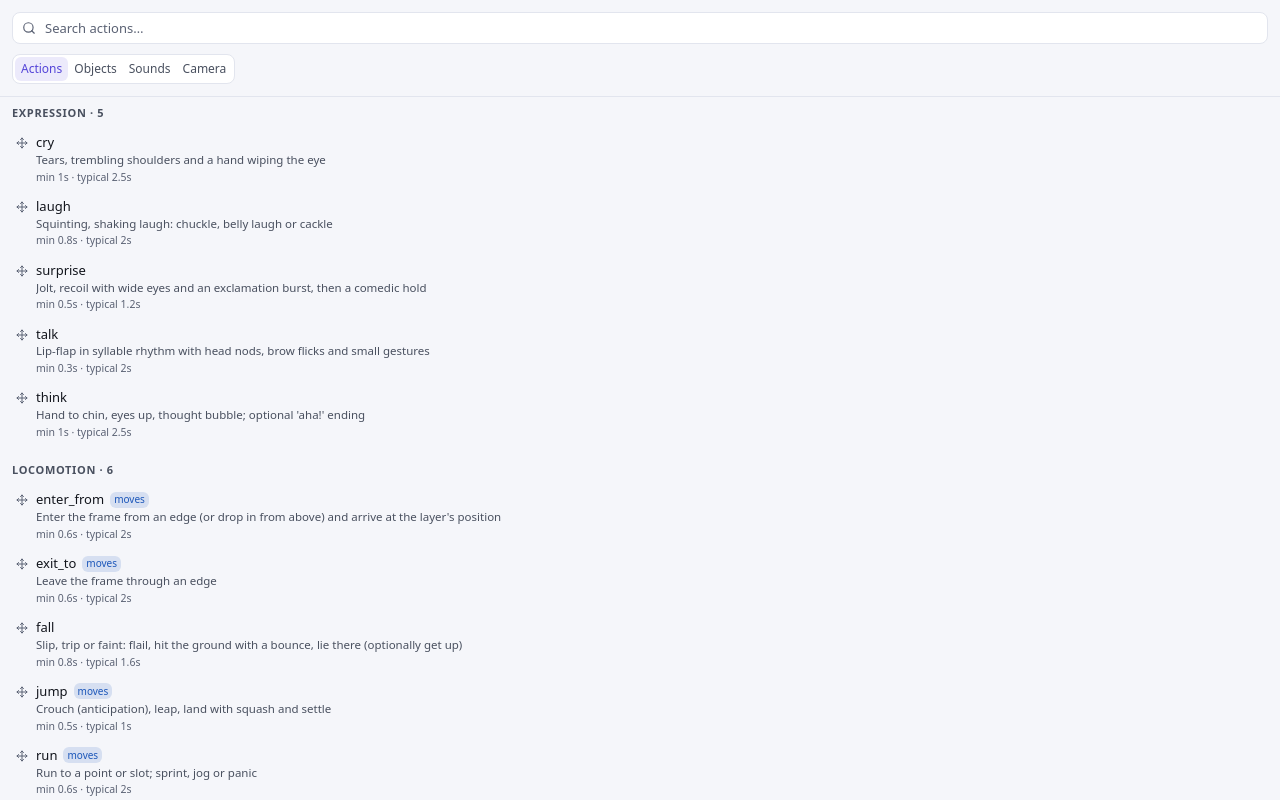
it: the Objects section in the studio › is one of the four sections of the narrow panel, and has no From filter
The width and height of the screenshot is (1280, 800).
Click the radio button labelled "Objects": (96, 69) [68, 57, 123, 81]
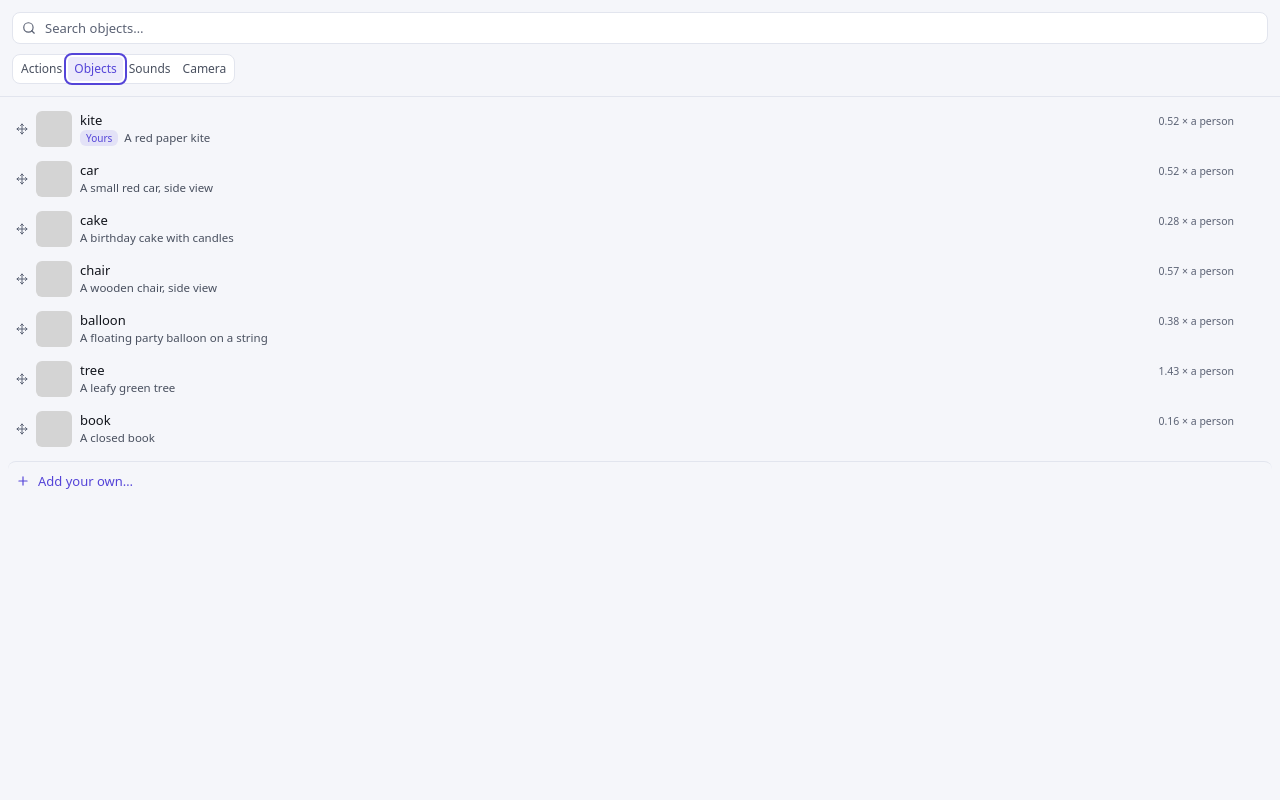
Check: the radio buttons read "Actions", "Objects", "Sounds", "Camera", in this order, box [15, 57, 68, 81]; [68, 57, 123, 81]; [123, 57, 177, 81]; [177, 57, 232, 81]
Check: the text "from" is gone
